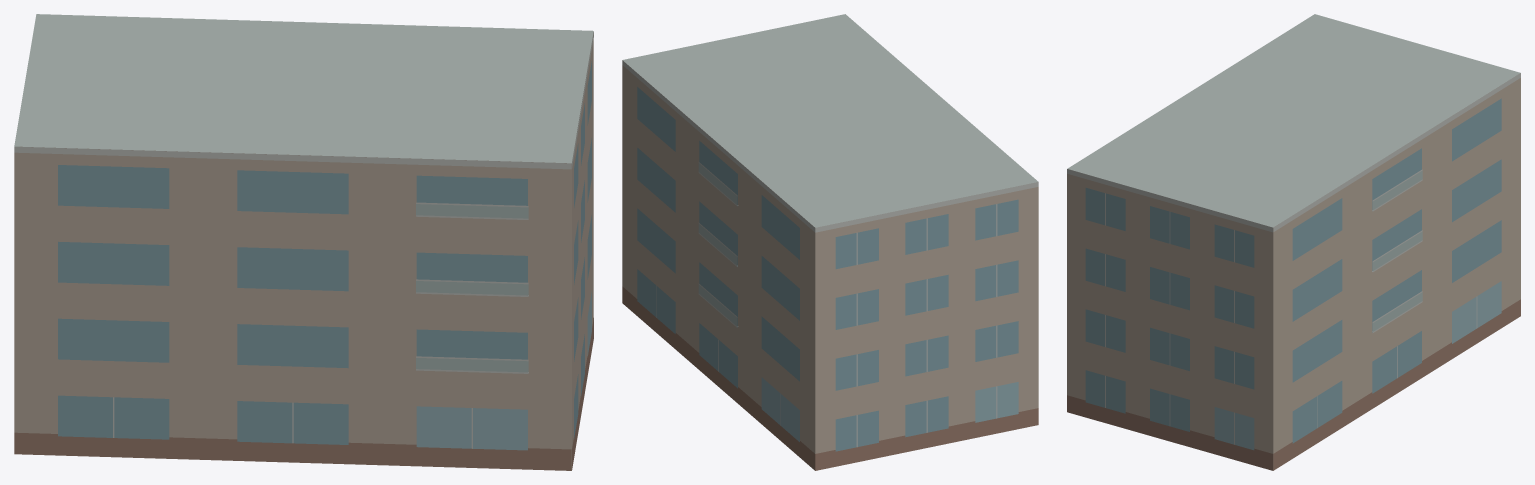
Rendered from residential-c89dc312-be51-45f8-bce1-194e70b608ff.glb.
3 views of the same model, side by side, from view 1: azimuth 30°, elevation 25°; view 2: azimuth 150°, elevation 25°; view 3: azimuth 270°, elevation 25° (orthographic). The views are drawn at different scales.
Visible parts, largest first — view 1: residential-c89dc312-be51-45f8-bce1-194e70b608ff.tmp; view 2: residential-c89dc312-be51-45f8-bce1-194e70b608ff.tmp; view 3: residential-c89dc312-be51-45f8-bce1-194e70b608ff.tmp.
Boxes of the visible parts, x1=… form: residential-c89dc312-be51-45f8-bce1-194e70b608ff.tmp: x1=14, y1=14, x2=593, y2=470; residential-c89dc312-be51-45f8-bce1-194e70b608ff.tmp: x1=622, y1=14, x2=1038, y2=470; residential-c89dc312-be51-45f8-bce1-194e70b608ff.tmp: x1=1067, y1=14, x2=1520, y2=470.
Bounding box in the file's own units: 22.97 × 12.2 × 20.63.
